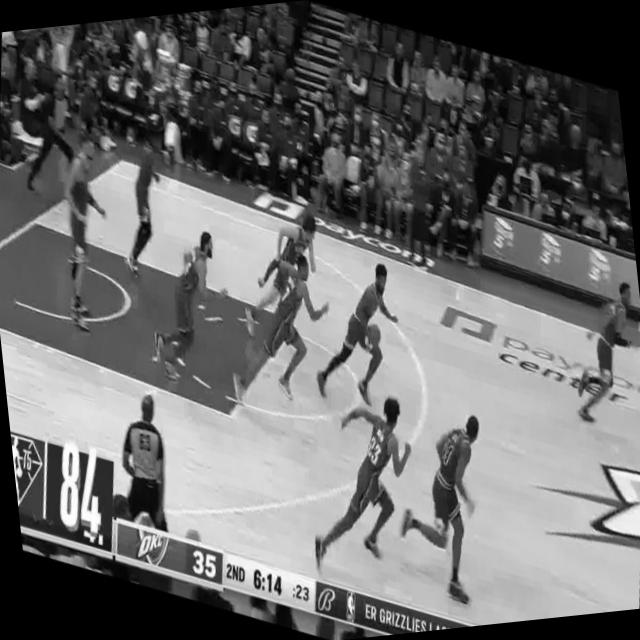ball-handler: (303, 233, 416, 428)
